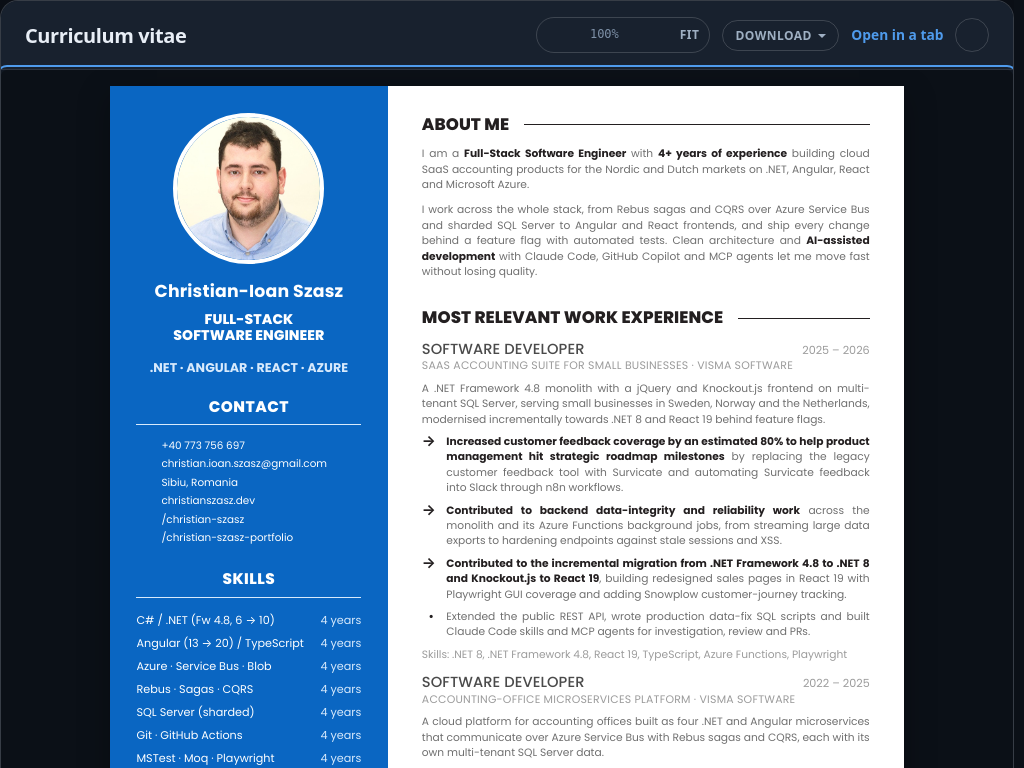
Test case: CvViewerComponent › the download menu › hands over a PDF without going near the print dialog
Click the button with class "download__trigger".
click(781, 36)  # box [722,20,839,52]
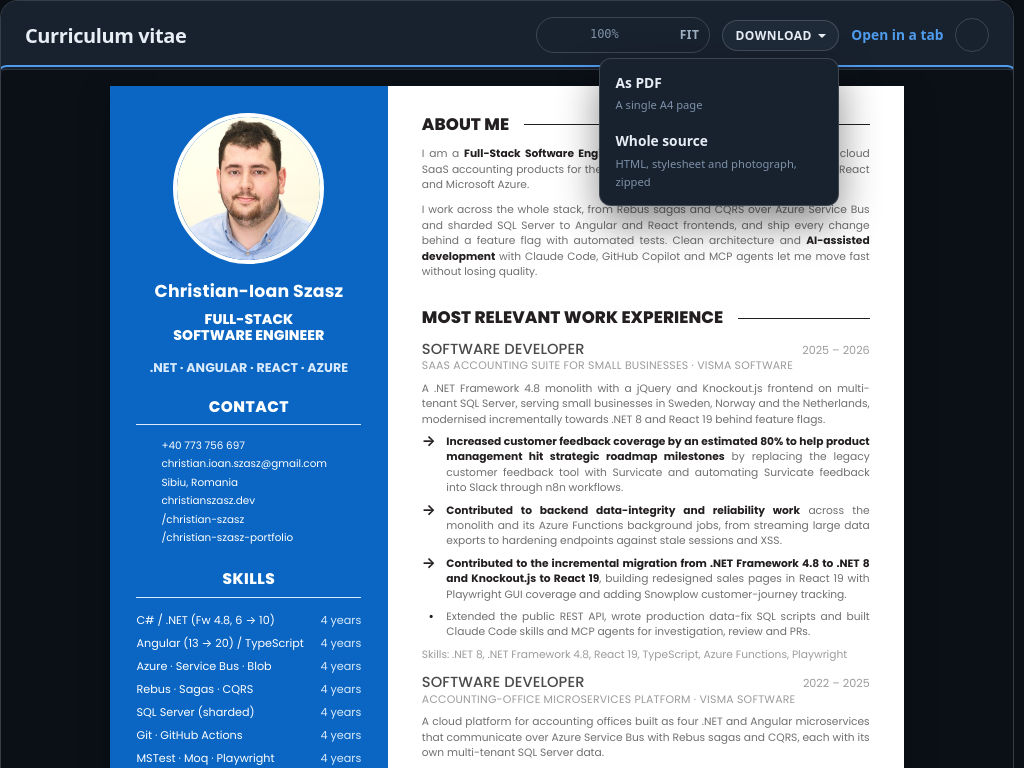
Click the menu item "As PDF A single A4 page".
click(719, 93)  # box [605,64,834,122]
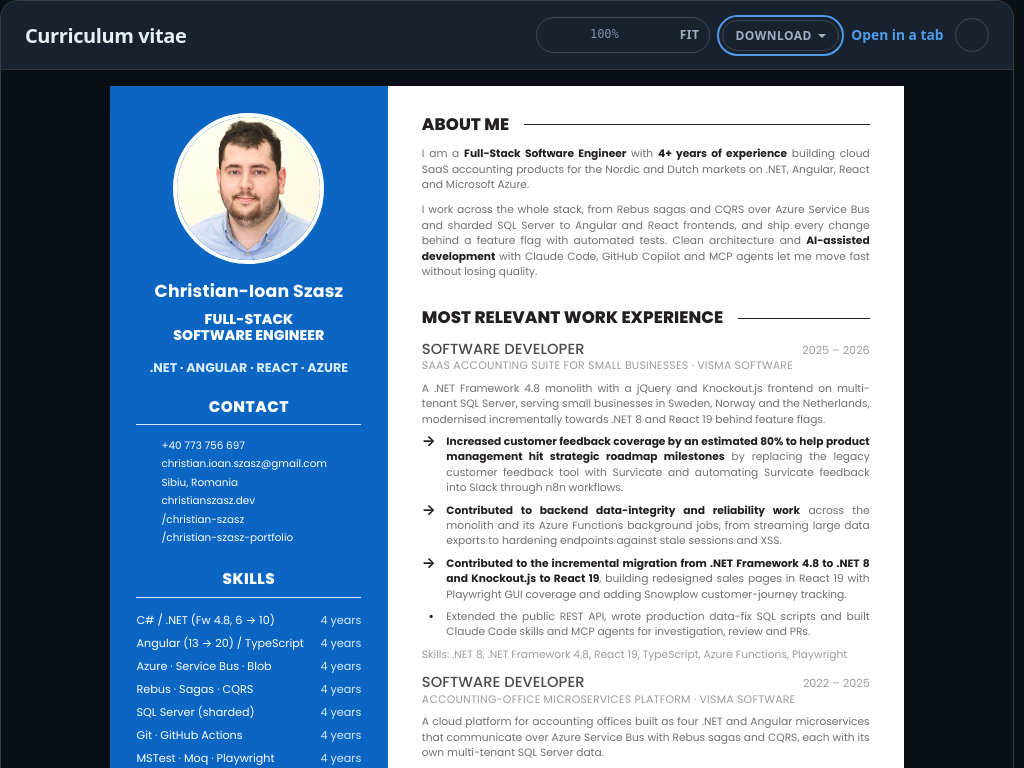
Result: the menu with class "download__menu" is gone
